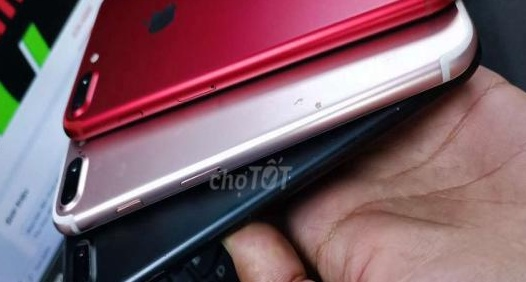scratch: (289, 83, 335, 122)
